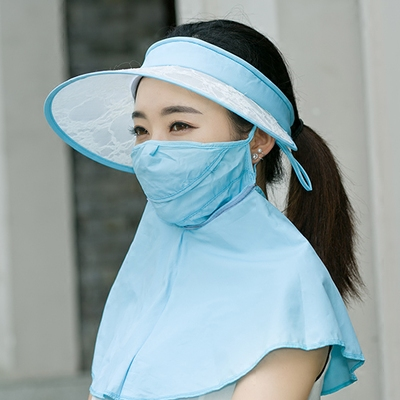face_mask: (131, 71, 244, 219)
